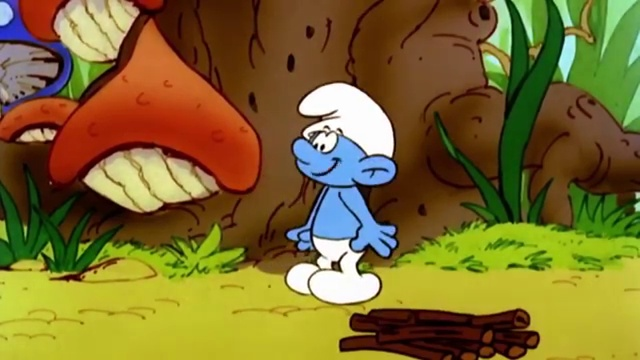smurf: (283, 82, 396, 306)
